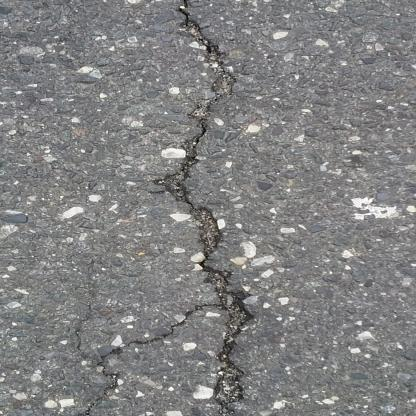Cracks: (149, 0, 257, 416)
